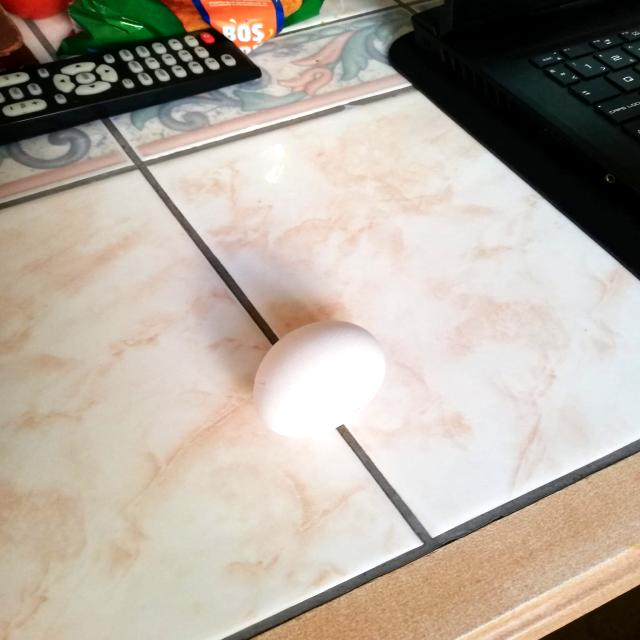egg: (242, 312, 392, 440)
